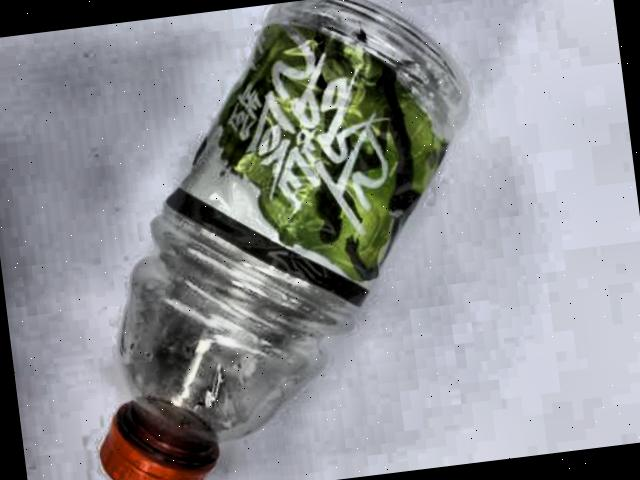Bottles: (30, 0, 527, 480)
